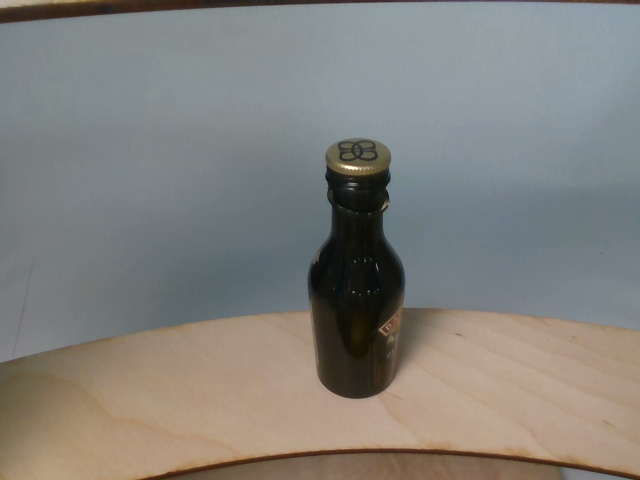coke: (309, 139, 407, 399)
